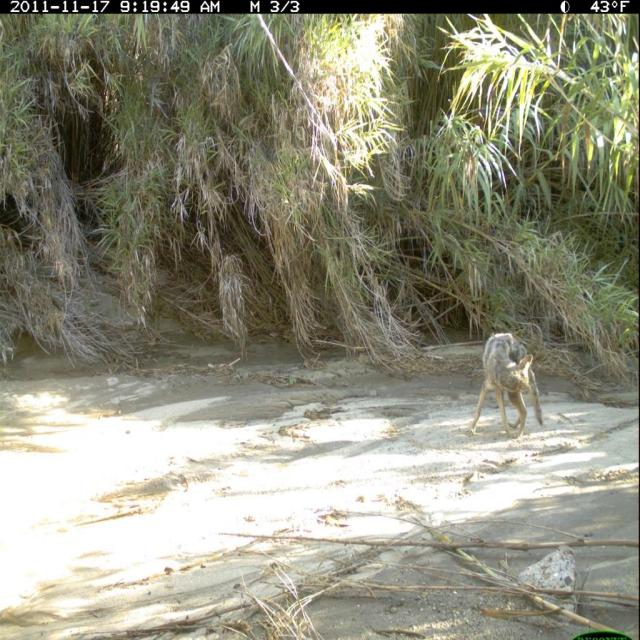coyote: (469, 323, 553, 454)
